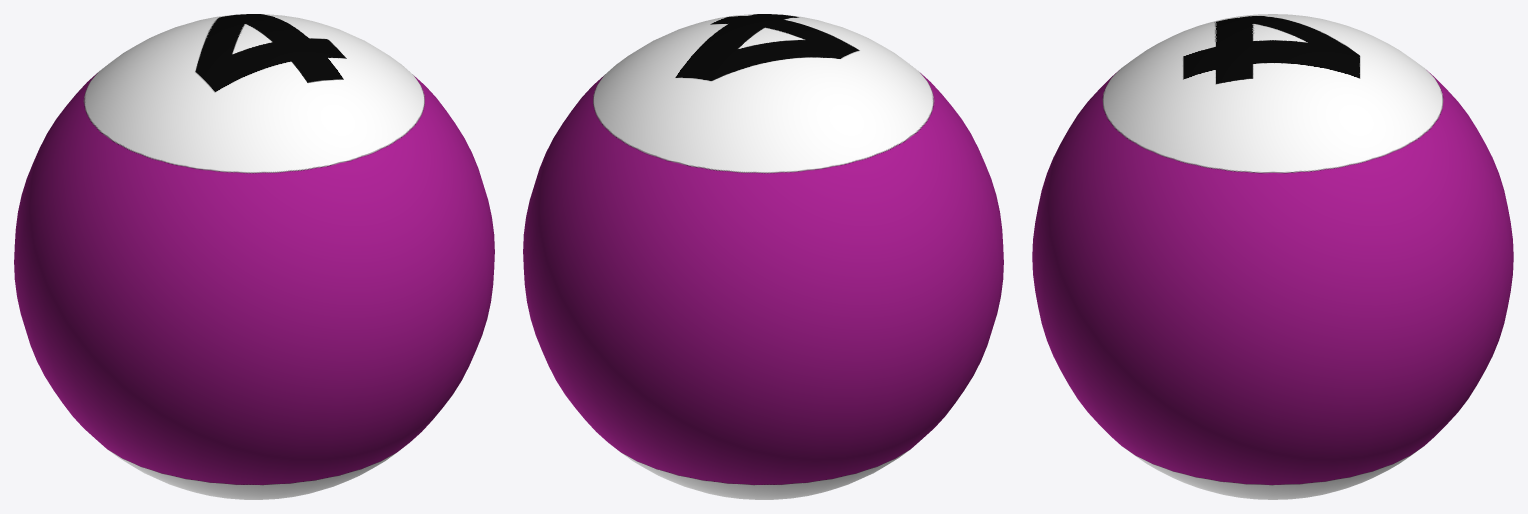
3 renders of one model, left to right at view 1: azimuth 30°, elevation 25°; view 2: azimuth 150°, elevation 25°; view 3: azimuth 270°, elevation 25°, orthographic.
Parts seen in each view (by area): view 1: 4-four; view 2: 4-four; view 3: 4-four.
Boxes of the visible parts, x1,y1,x2,y2 form: 4-four: (14, 14, 494, 499); 4-four: (523, 14, 1003, 499); 4-four: (1032, 14, 1513, 499).
Size of the model in its own units: 0.5015 by 0.5088 by 0.5015.
Materials: 1 (1 with a texture image).
